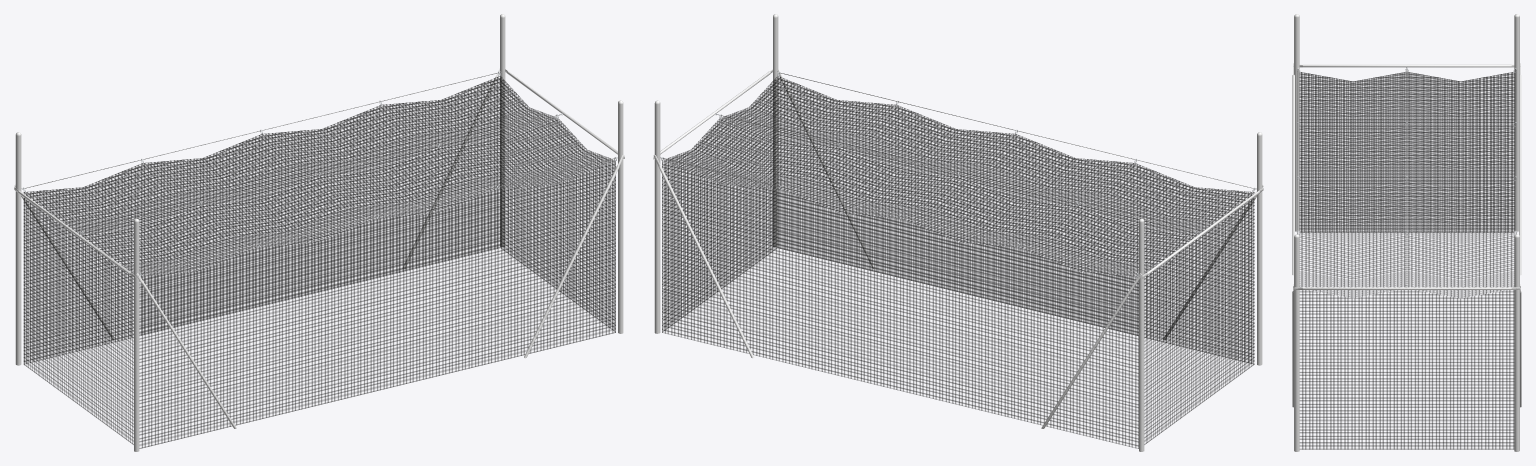
The model's file is Outdoor Collegiate 35.glb.
3 renders of one model, left to right at view 1: azimuth 30°, elevation 25°; view 2: azimuth 150°, elevation 25°; view 3: azimuth 270°, elevation 25°, orthographic. The views are drawn at different scales.
Visible parts, largest first — view 1: Playground.007, Frame.009; view 2: Playground.007, Frame.009; view 3: Playground.007, Frame.009.
Boxes of the visible parts, <box> form: Playground.007: <box>23,76,615,448</box>; Frame.009: <box>14,14,624,451</box>; Playground.007: <box>662,76,1254,448</box>; Frame.009: <box>653,14,1263,451</box>; Playground.007: <box>1299,72,1514,449</box>; Frame.009: <box>1292,14,1521,451</box>.
Bounding box in the file's own units: 10.85 × 4.9 × 4.7.
Materials: 4 (1 with a texture image).
